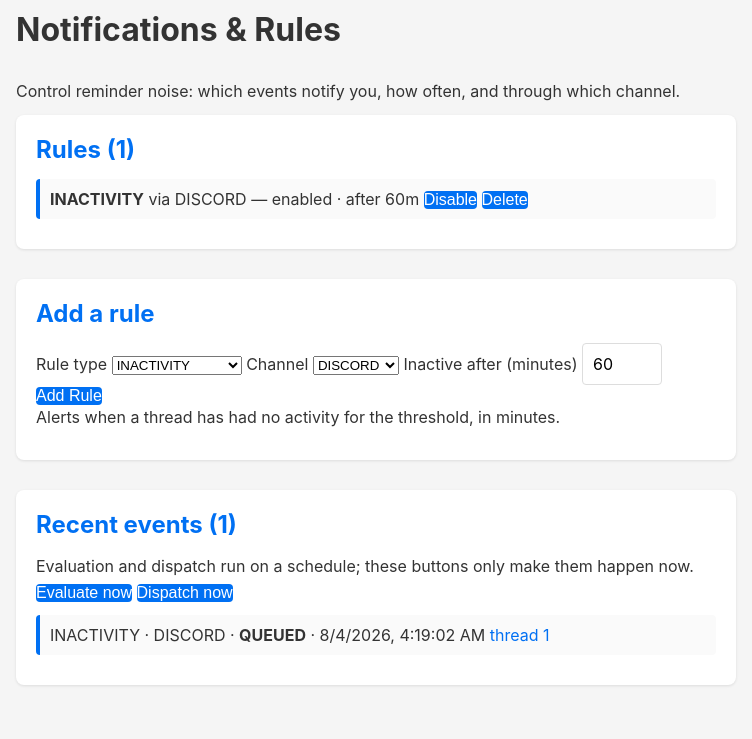
Test: notification settings › reports how many notifications an evaluation queued
Check: the heading "Rules (1)" is shown, box [36,135,135,164]
Click the button "Evaluate now" at coordinates (84, 593), box [36,584,132,602]
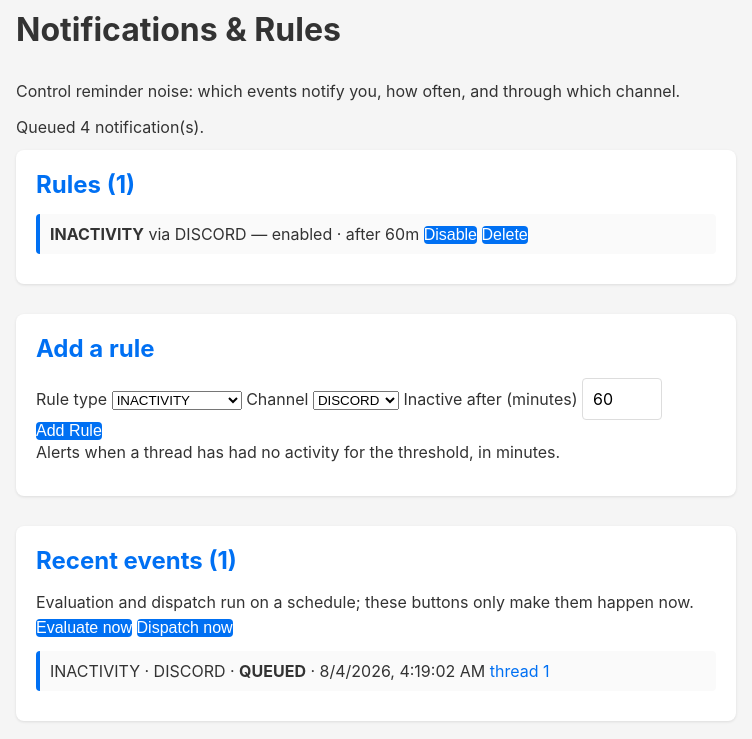
Check: the message reads "Queued 4 notification(s).", box [16,117,204,137]
